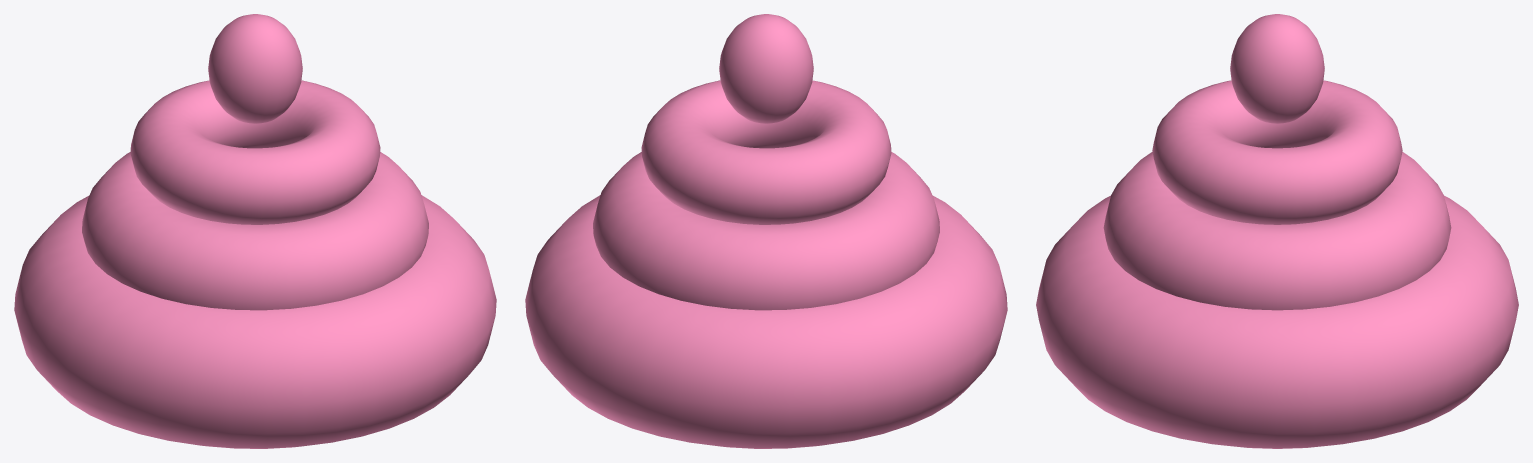
File: Ammo_Cream.glb
3 renders of one model, left to right at view 1: azimuth 30°, elevation 25°; view 2: azimuth 150°, elevation 25°; view 3: azimuth 270°, elevation 25°, orthographic.
Visible parts, largest first — view 1: Torus, Torus.001, Torus.002, Sphere; view 2: Torus, Torus.001, Torus.002, Sphere; view 3: Torus, Torus.001, Torus.002, Sphere.
Part boxes in pixels (left/top/right/bottom): Torus: left=14, top=195, right=496, bottom=448; Torus.001: left=82, top=152, right=428, bottom=310; Torus.002: left=130, top=80, right=380, bottom=224; Sphere: left=208, top=14, right=302, bottom=123; Torus: left=525, top=195, right=1007, bottom=448; Torus.001: left=593, top=152, right=939, bottom=310; Torus.002: left=641, top=80, right=891, bottom=224; Sphere: left=719, top=14, right=813, bottom=123; Torus: left=1036, top=195, right=1518, bottom=448; Torus.001: left=1103, top=152, right=1451, bottom=310; Torus.002: left=1152, top=80, right=1402, bottom=224; Sphere: left=1230, top=14, right=1324, bottom=123.
Bounding box in the file's own units: 1.02 × 0.826 × 1.02.
